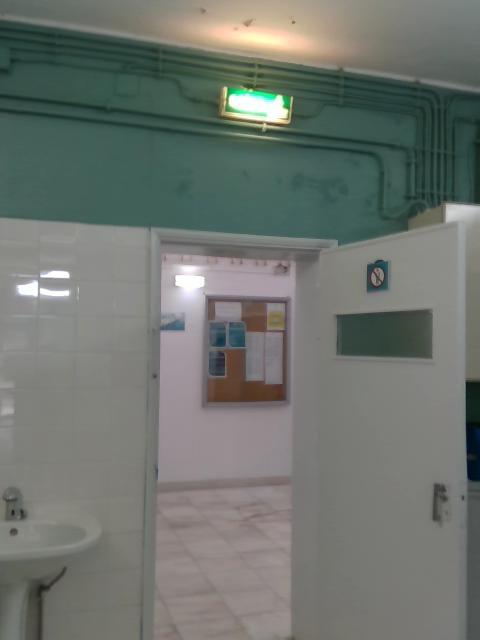open_door: (144, 225, 337, 638)
